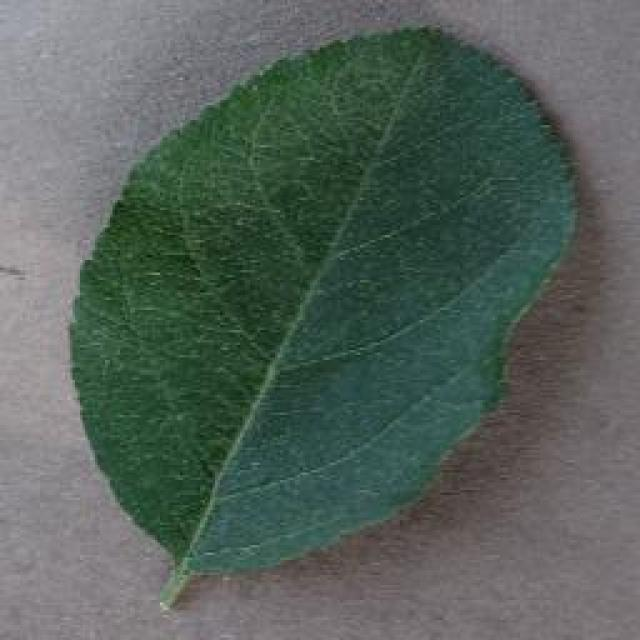apple healthy: (65, 20, 583, 610)
